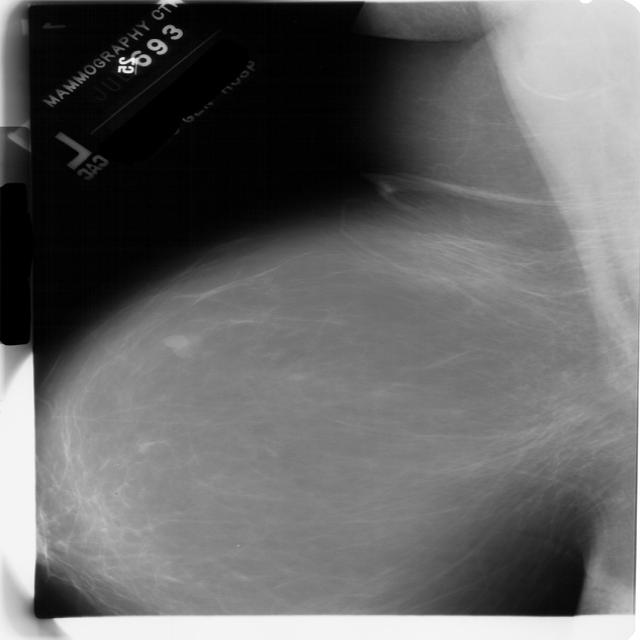tumour: (160, 333, 193, 356)
